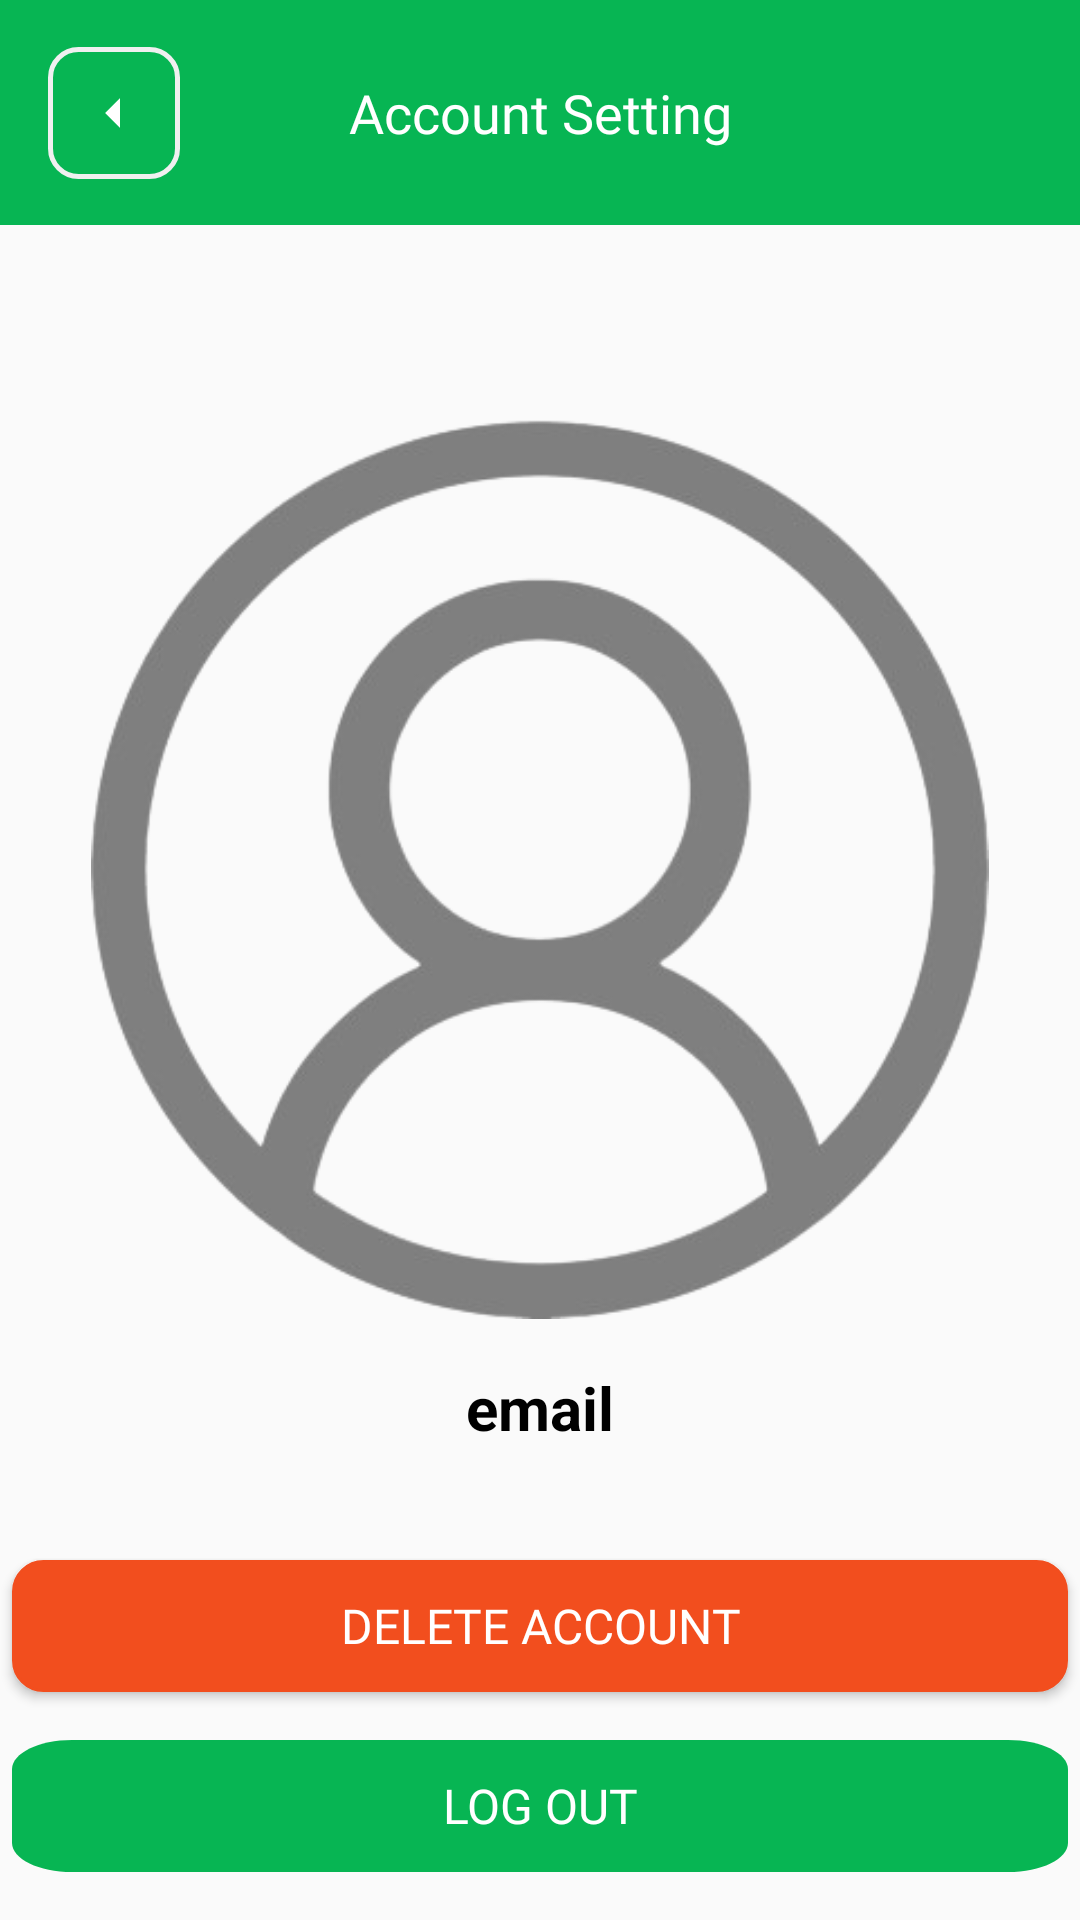

Where icons sit on this 1080 x 1920 app screen, as (x1, y1, x2, y2):
back: (48, 47, 180, 179)
